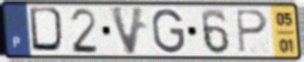2: (68, 7, 100, 55)
6: (199, 7, 232, 56)
D: (27, 5, 68, 55)
G: (150, 7, 187, 55)
P: (234, 8, 270, 55)
V: (108, 5, 148, 57)
